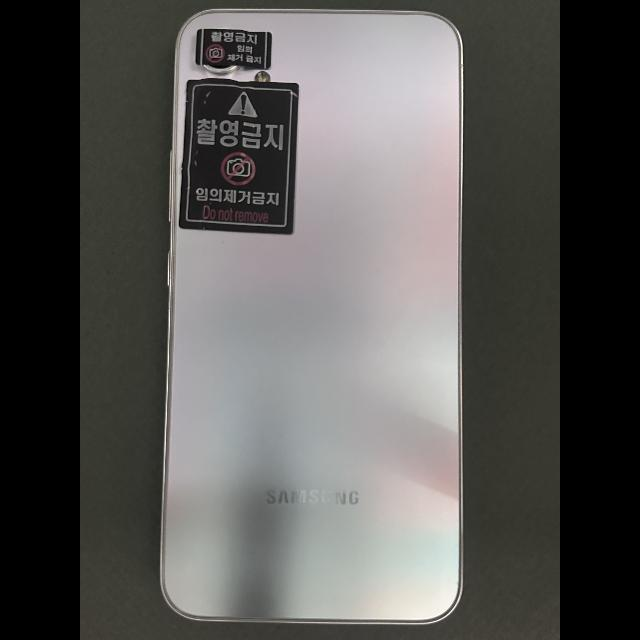lens: (204, 65, 236, 72)
phone: (160, 8, 464, 626)
sticker: (179, 78, 299, 236), (195, 29, 272, 69)
